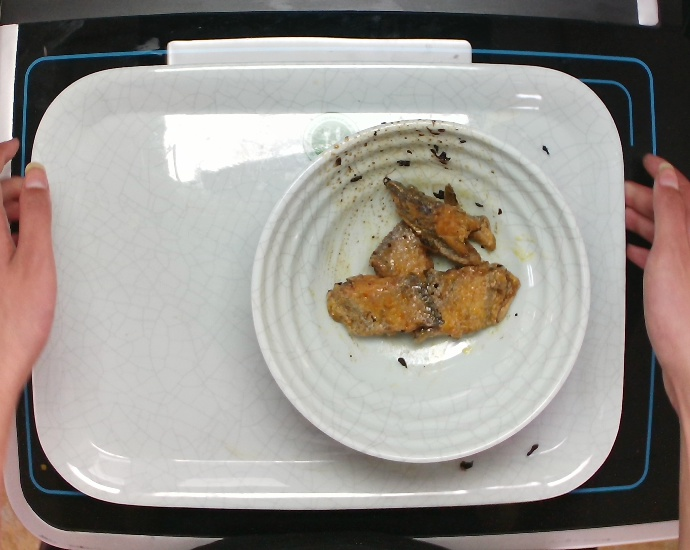JYsf-Da_Tang_Wan: (240, 113, 595, 466)
